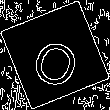O_NE: (25, 23, 85, 87)
